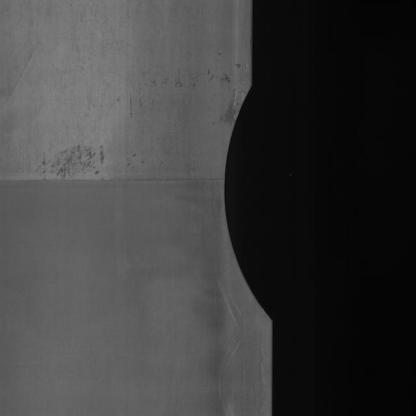crescent_gap: (217, 75, 281, 331)
welding_line: (0, 166, 226, 193)
